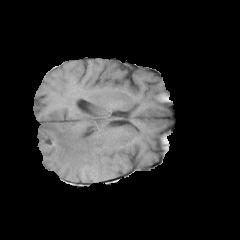glioma: (39, 116, 122, 181)
